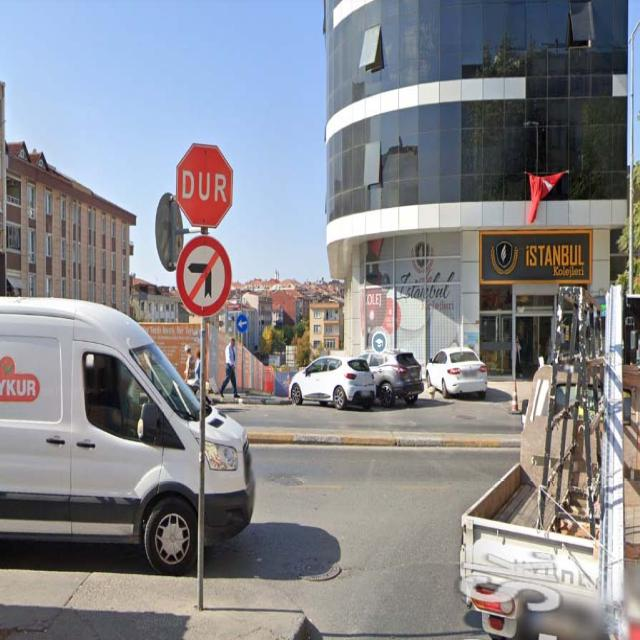dur: (176, 143, 232, 228)
sol: (237, 315, 247, 331)
soladonulmez: (176, 236, 232, 318)
